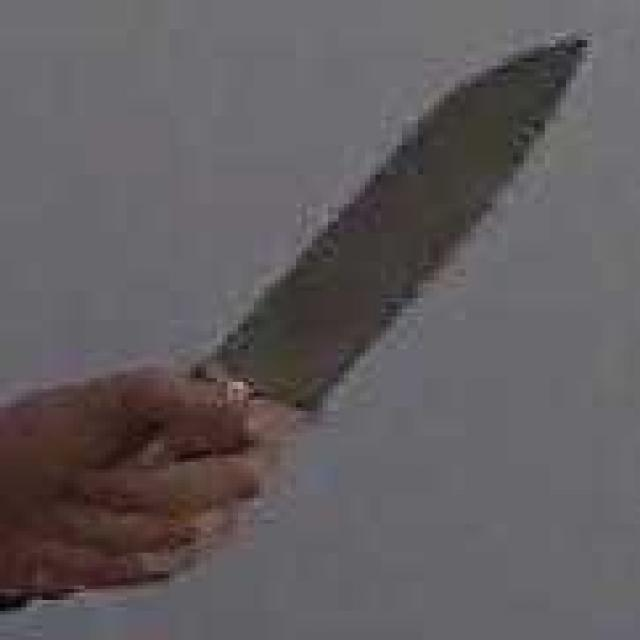Knife: (97, 28, 594, 592)
